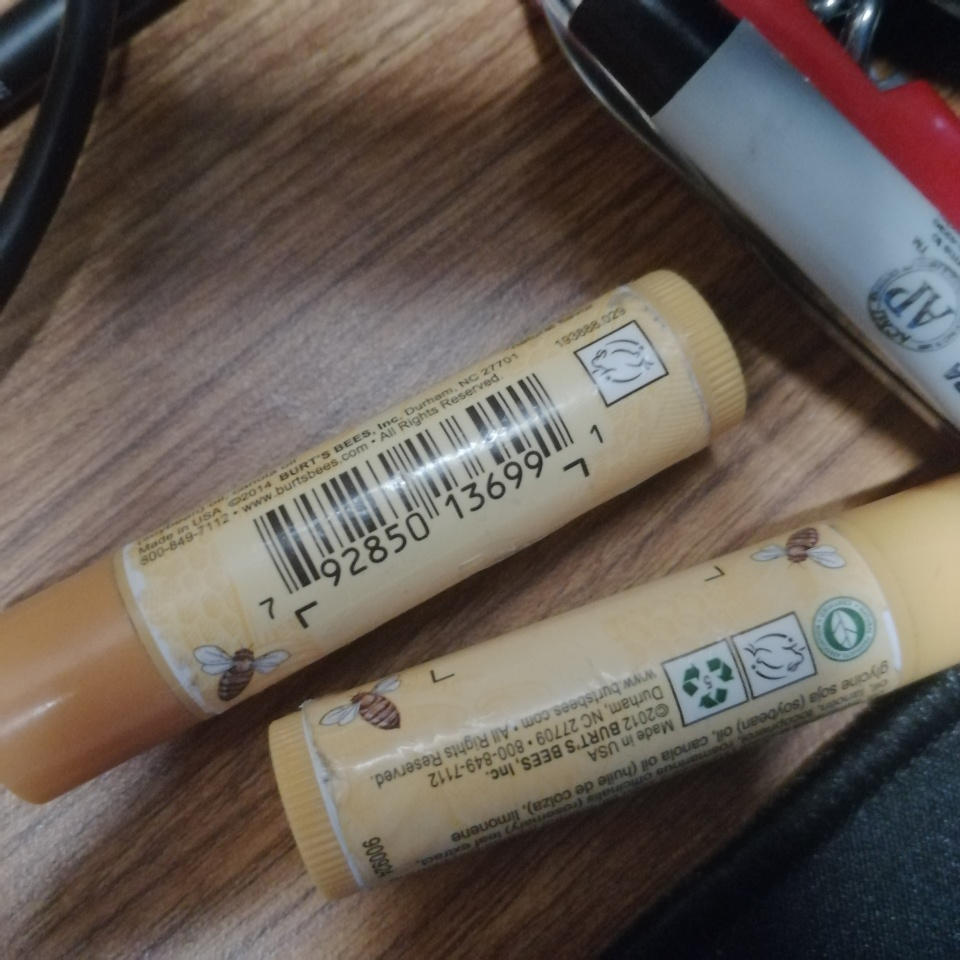chapstick: (1, 268, 750, 805), (267, 472, 960, 904)
